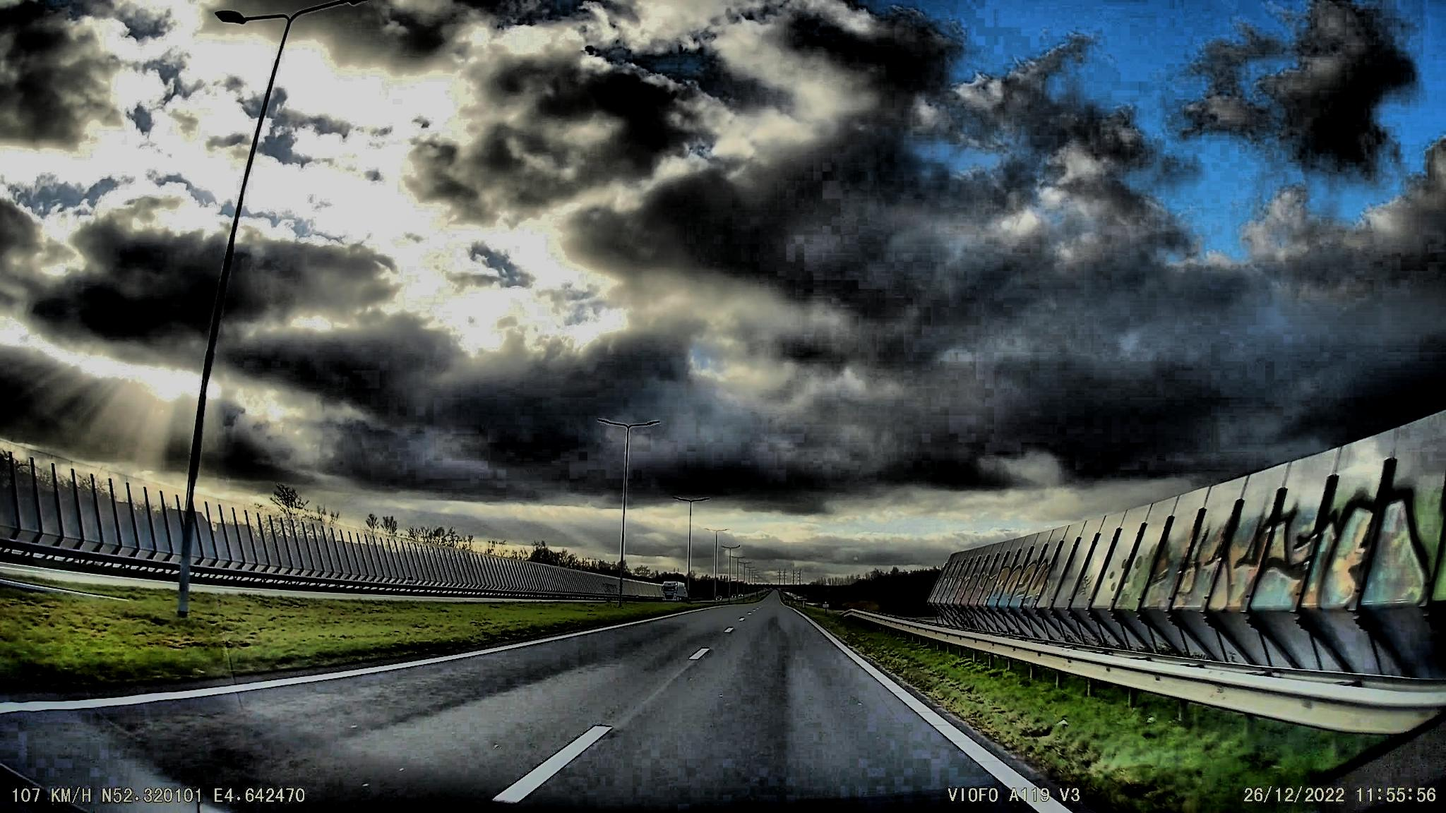Roads: (0, 595, 1118, 813)
